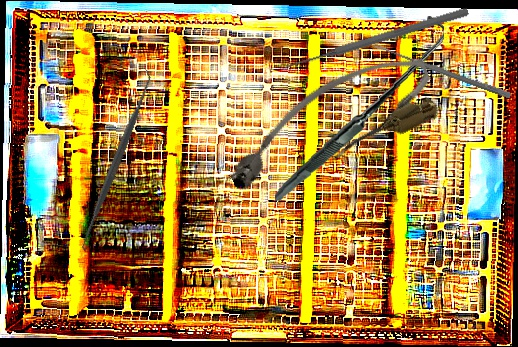Cannula: (211, 43, 447, 205)
Hook Surgical: (263, 14, 455, 202)
Pusher: (283, 5, 470, 73)
Spatula Surgical: (70, 68, 163, 253)
Surgical Spoon: (372, 42, 512, 99)
